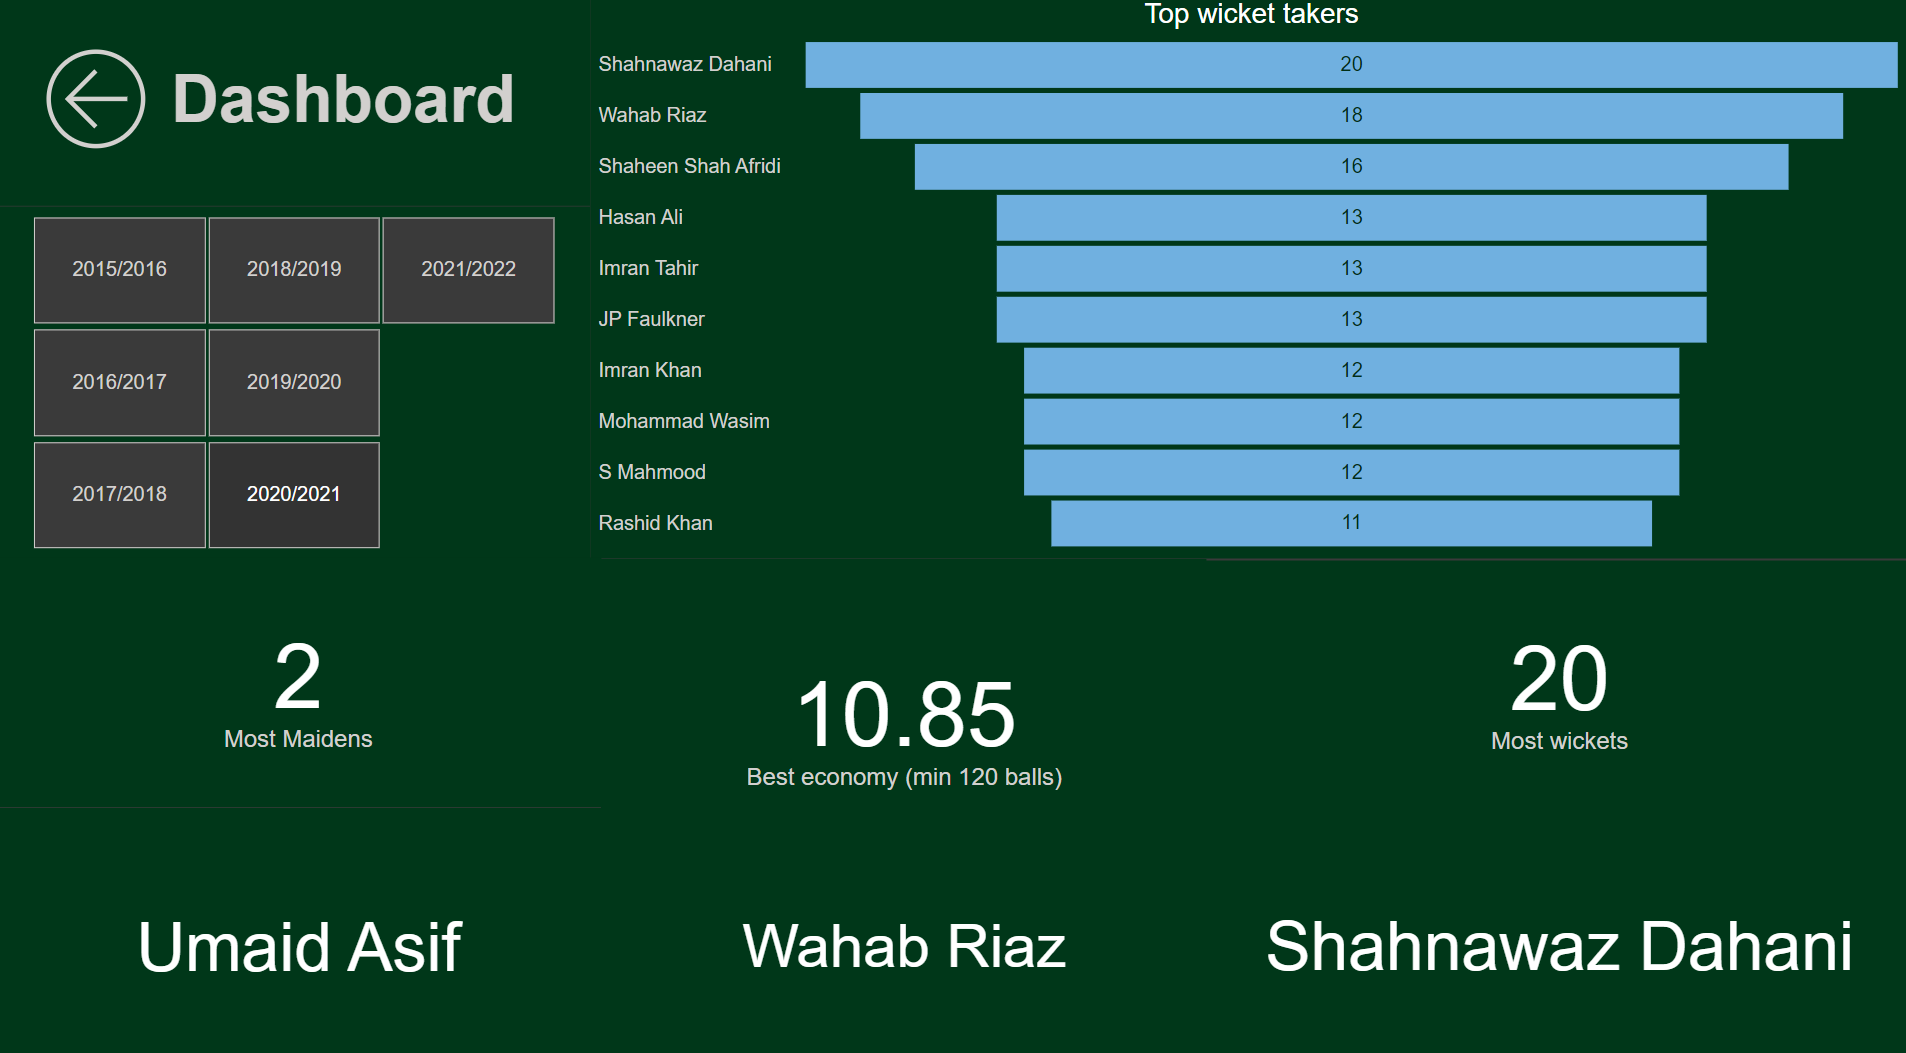

Layout of this report page (visuals, bound fields, positions):
{"tool":"powerbi","page":{"name":"Bowling by season","canvas":[1280,720],"ordinal":4},"visuals":[{"type":"slicer","fields":{"Values":["bowling.season"]},"box":[0,138.9,397.4,235.1],"z":0},{"type":"funnel","title":"Top wicket takers","fields":{"Category":["bowling.name"],"Y":["bowling.wickets"]},"box":[397.4,0,882.3,374.1],"z":1000},{"type":"card","fields":{"Values":["_Calculations.Most wickets"]},"box":[807.4,375.1,472.2,165.2],"z":2000},{"type":"card","fields":{"Values":["_Calculations.Top Wicket Taker"]},"box":[807.4,540.2,472.2,178.8],"z":3000},{"type":"card","fields":{"Values":["_Calculations.Best economy (min 50 balls)"]},"box":[404.2,374.1,404.2,214.7],"z":4000},{"type":"card","fields":{"Values":["_Calculations.Top Economy Holder"]},"box":[0,540.3,404.6,180.1],"z":5000},{"type":"card","fields":{"Values":["_Calculations.Most Maidens"]},"box":[0,373.8,404.6,166.5],"z":6000},{"type":"card","fields":{"Values":["_Calculations.Top Maiden Holder"]},"box":[404.2,540.2,404.2,179.8],"z":7000},{"type":"actionButton","box":[0,0,397.4,138.9],"z":8000}]}

Visuals, with their boxes in screenshot pixels (x1, y1, x2, y2), scaled from the page's 1280x720 canvas onto the 1906x1053 screenshot:
slicer - bowling.season: 0, 203, 592, 547
"Top wicket takers" funnel: 592, 0, 1905, 547
card - _Calculations.Most wickets: 1202, 549, 1905, 790
card - _Calculations.Top Wicket Taker: 1202, 790, 1905, 1052
card - _Calculations.Best economy (min 50 balls): 602, 547, 1204, 861
card - _Calculations.Top Economy Holder: 0, 790, 602, 1052
card - _Calculations.Most Maidens: 0, 547, 602, 790
card - _Calculations.Top Maiden Holder: 602, 790, 1204, 1052
actionButton: 0, 0, 592, 203
